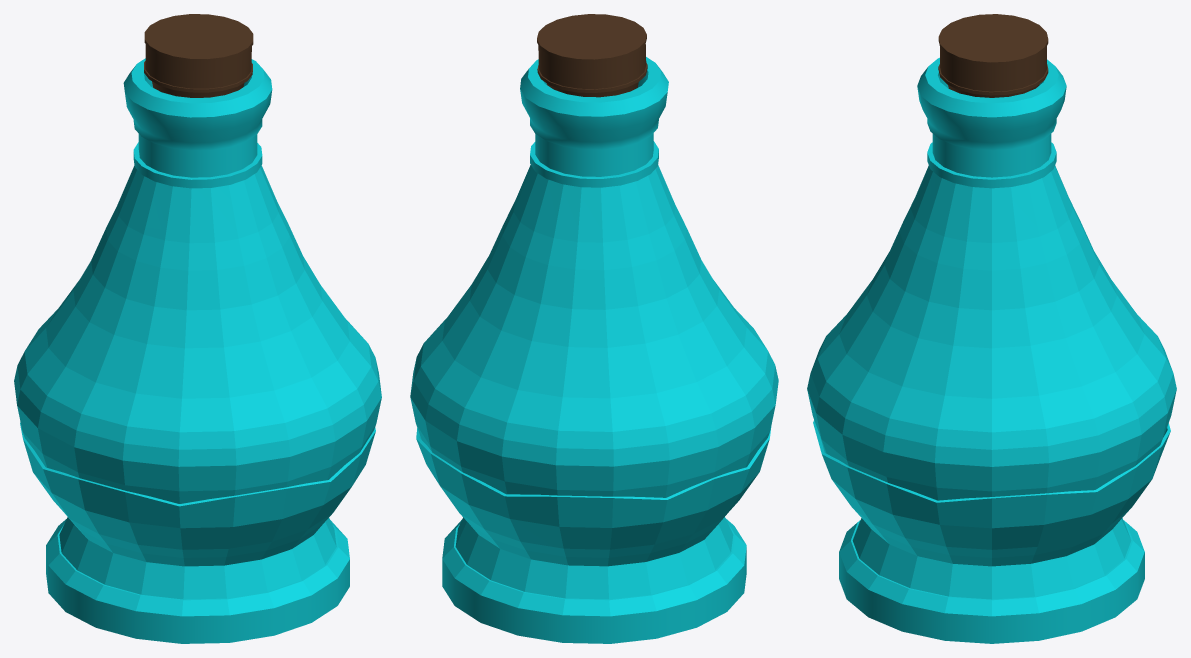
The model's file is Potion_magic.fbx.
The picture shows the model from 3 angles, left to right: view 1: azimuth 30°, elevation 25°; view 2: azimuth 150°, elevation 25°; view 3: azimuth 270°, elevation 25°; orthographic projection.
Visible parts, largest first — view 1: LowBottom; view 2: LowBottom; view 3: LowBottom.
Part boxes in pixels (box(x1,y1,x2,y2)): LowBottom: box(14, 14, 381, 643); LowBottom: box(410, 14, 778, 643); LowBottom: box(807, 14, 1176, 643).
Size of the model in its own units: 21.41 by 34.68 by 21.41.
